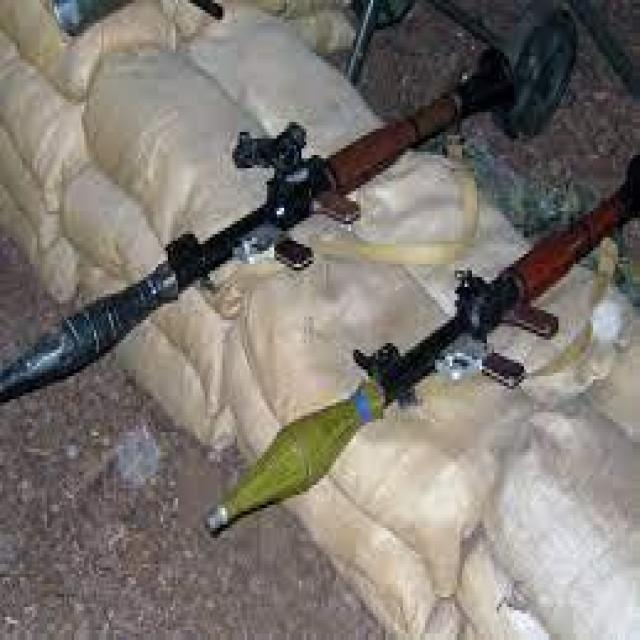Gun: (4, 41, 514, 382)
